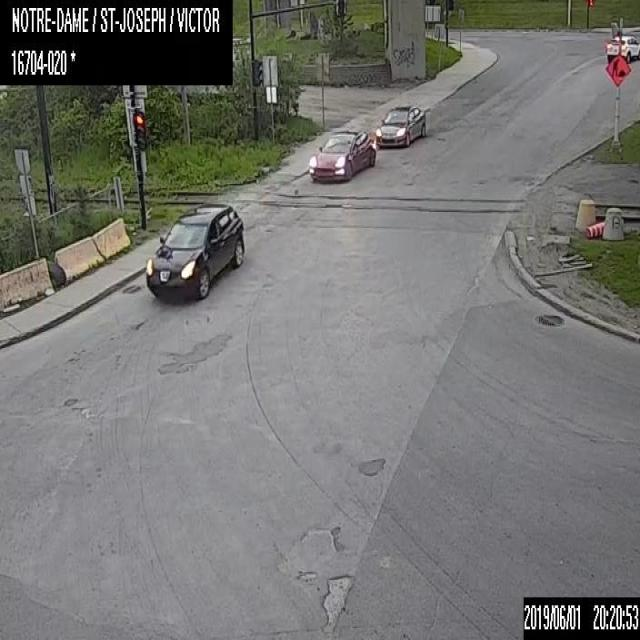construction: (605, 54, 631, 86), (586, 221, 604, 236)
vehicle: (144, 202, 245, 302), (308, 130, 375, 183), (376, 105, 425, 147), (606, 35, 639, 62)
